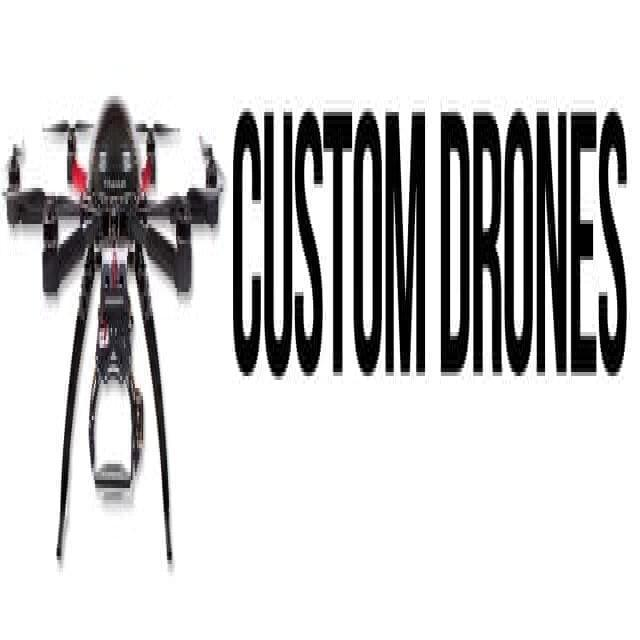drone: (0, 36, 231, 432)
